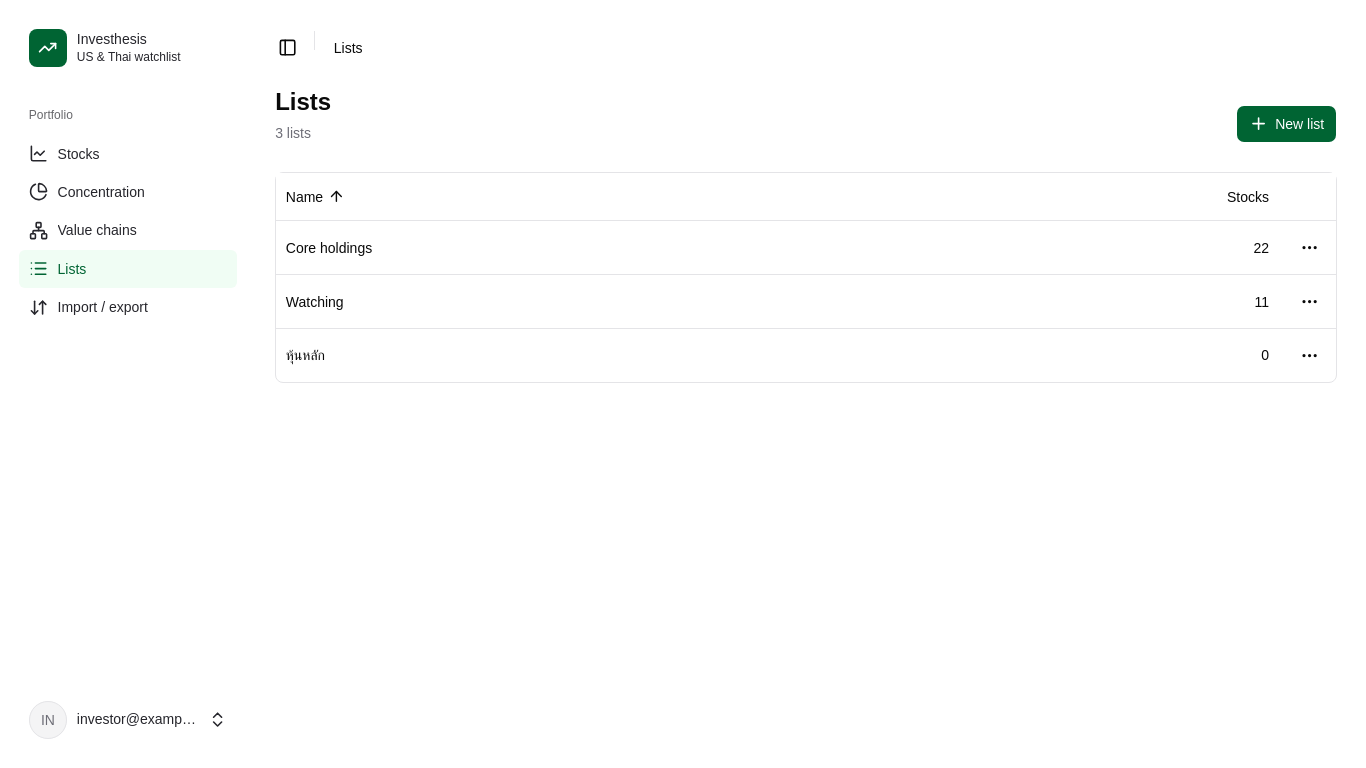
Test: lists page: table › TC-C-150: lists rows with name links, right-aligned counts and a row menu named per list
The width and height of the screenshot is (1366, 768).
Check: the heading "Lists" is shown, box [275,86,331,118]
Check: the text "3 lists" is shown, box [275,125,311,141]
Click the button named "Actions for Core holdings". click: x=1310, y=248
box: [1293,231,1327,265]
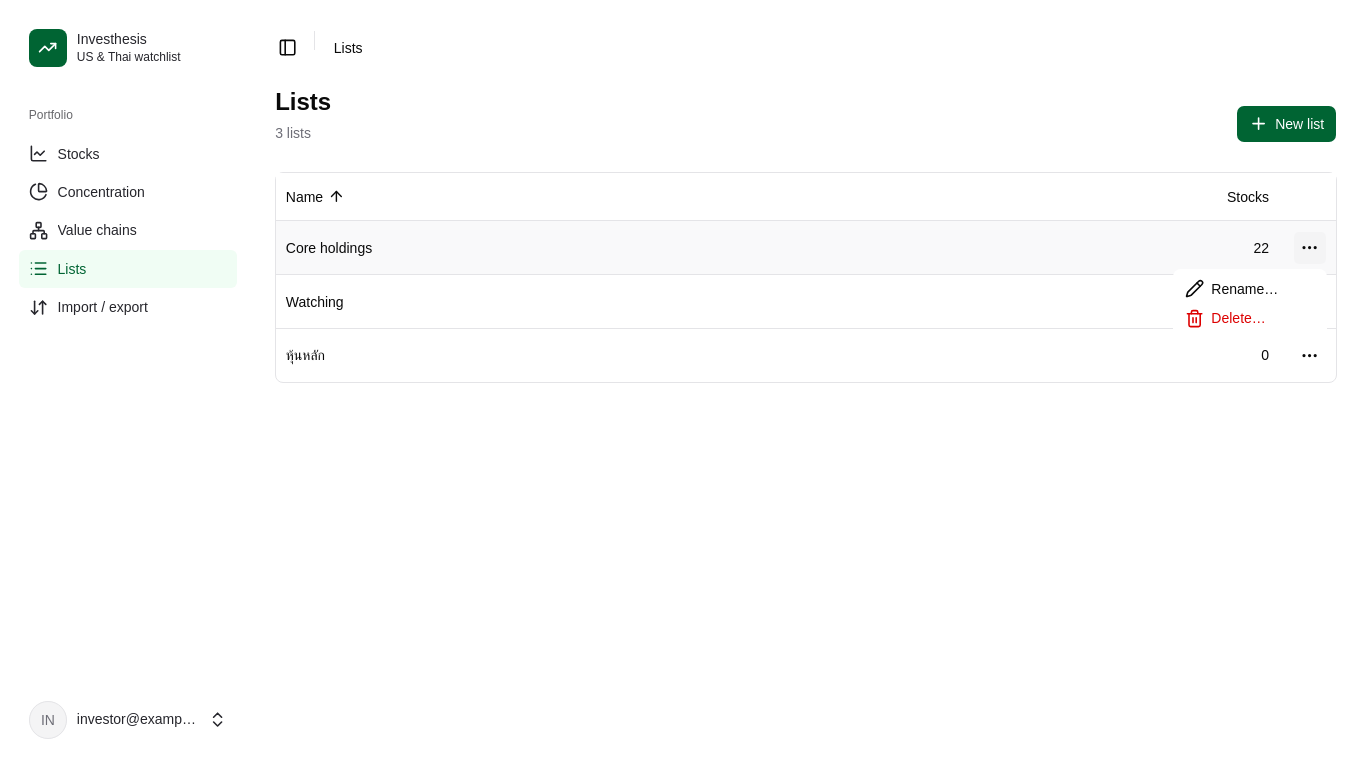
Check: the menu item "Rename…" is shown, box [1185,279,1278,298]
Check: the menu item "Delete…" is shown, box [1185,309,1266,328]
